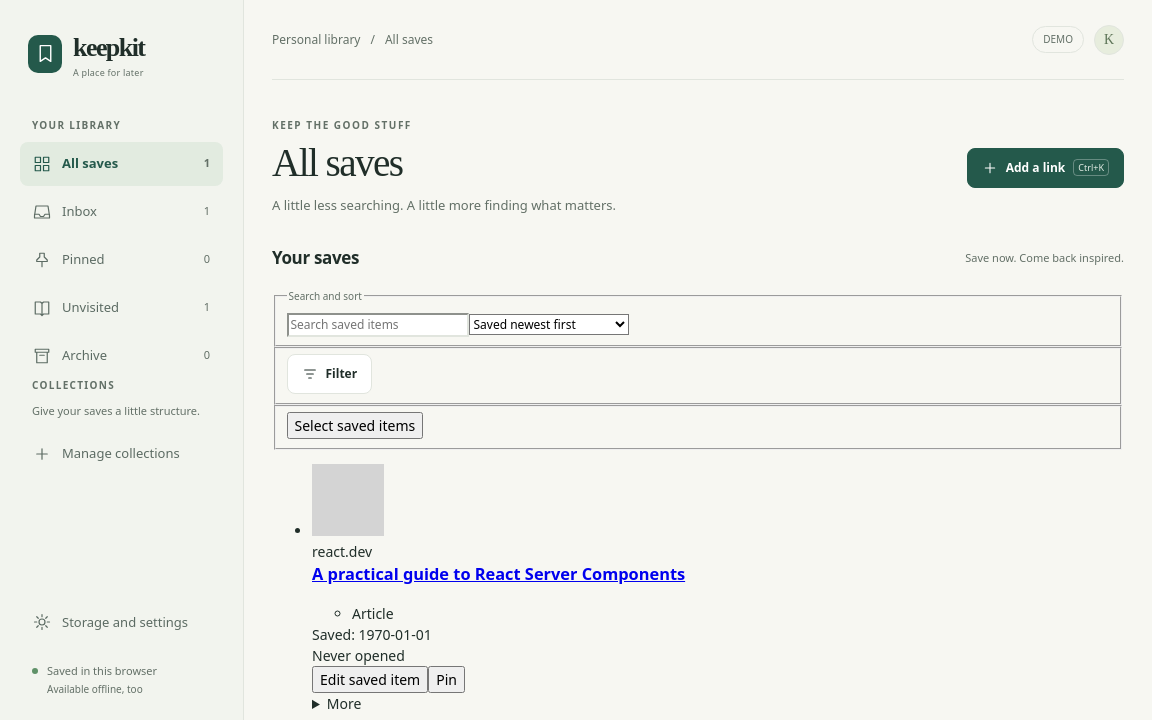
Test: opens storage settings with backup controls and preserves the library
The width and height of the screenshot is (1152, 720).
expect the button "Export JSON" is not shown: met
What coordinates should you click on to do the following:
click the button "Storage and settings"
I would click on:
 (122, 622)
Its box is [20,600,223,644].
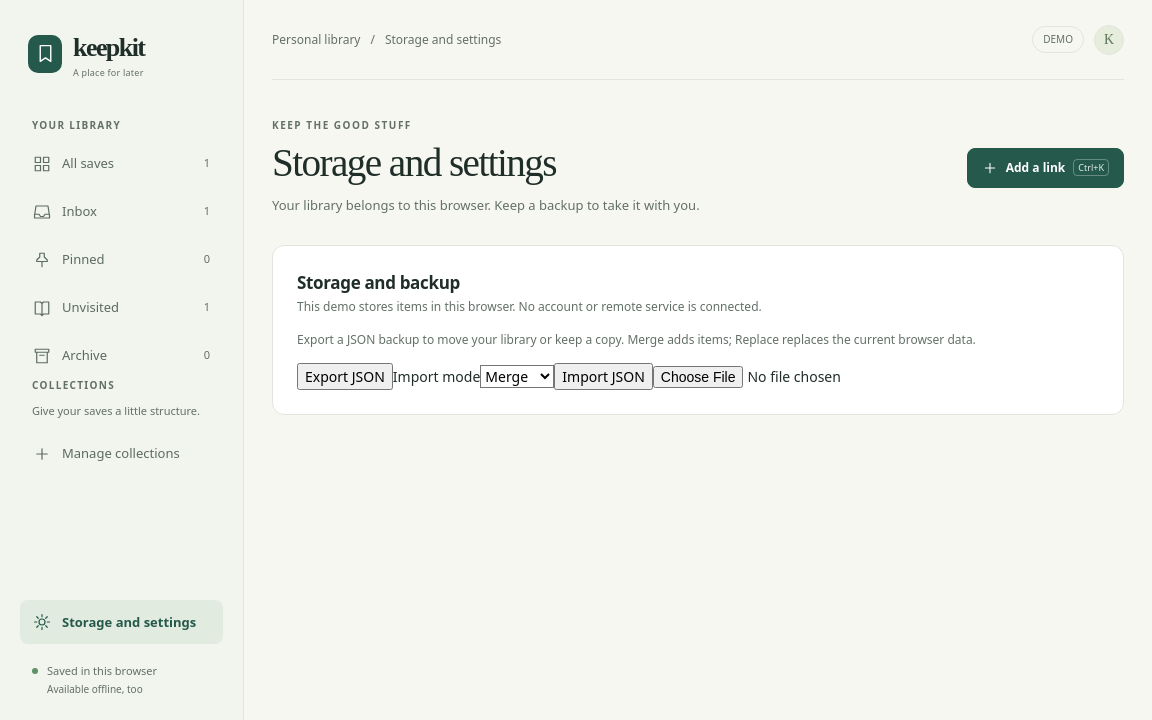
expect the button "Export JSON" is shown: met, box [297,363,393,390]
expect the text "stores items in this browser" is shown: met, box [297,298,762,315]
What coordinates should you click on to do the following:
click the button "All saves 1"
I would click on:
 (122, 164)
Its box is [20,142,223,186].
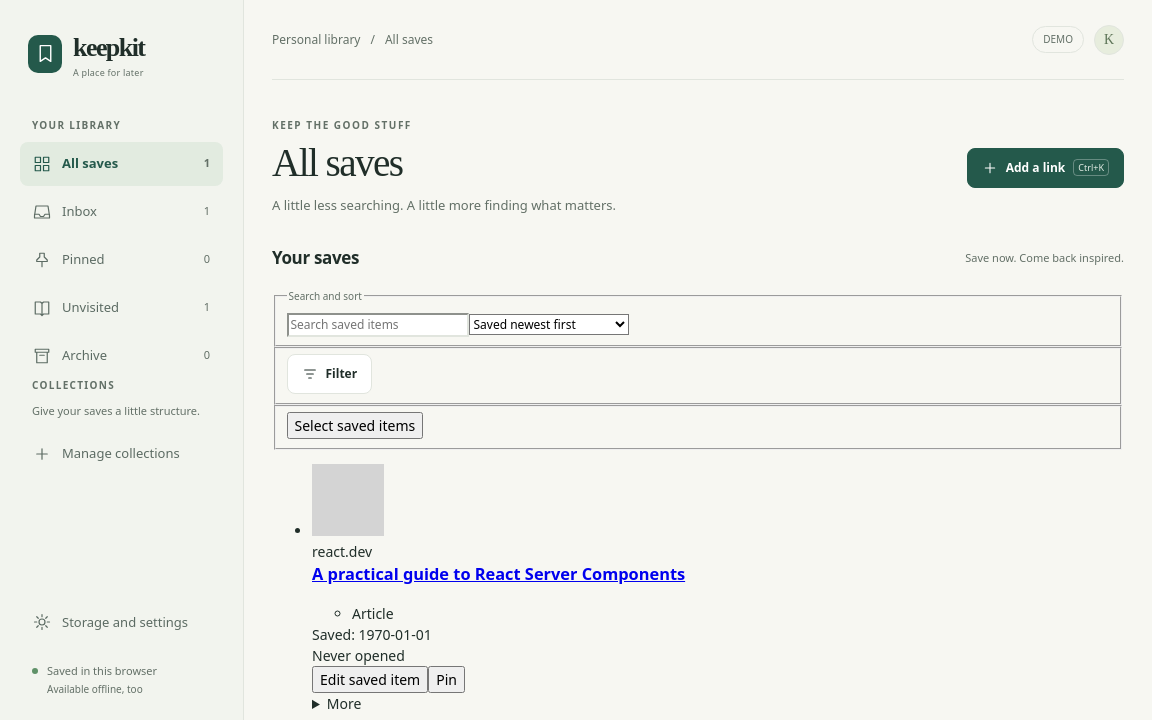
expect the list item "A practical guide to React Server Components" is shown: met, box [312,464,685,713]
